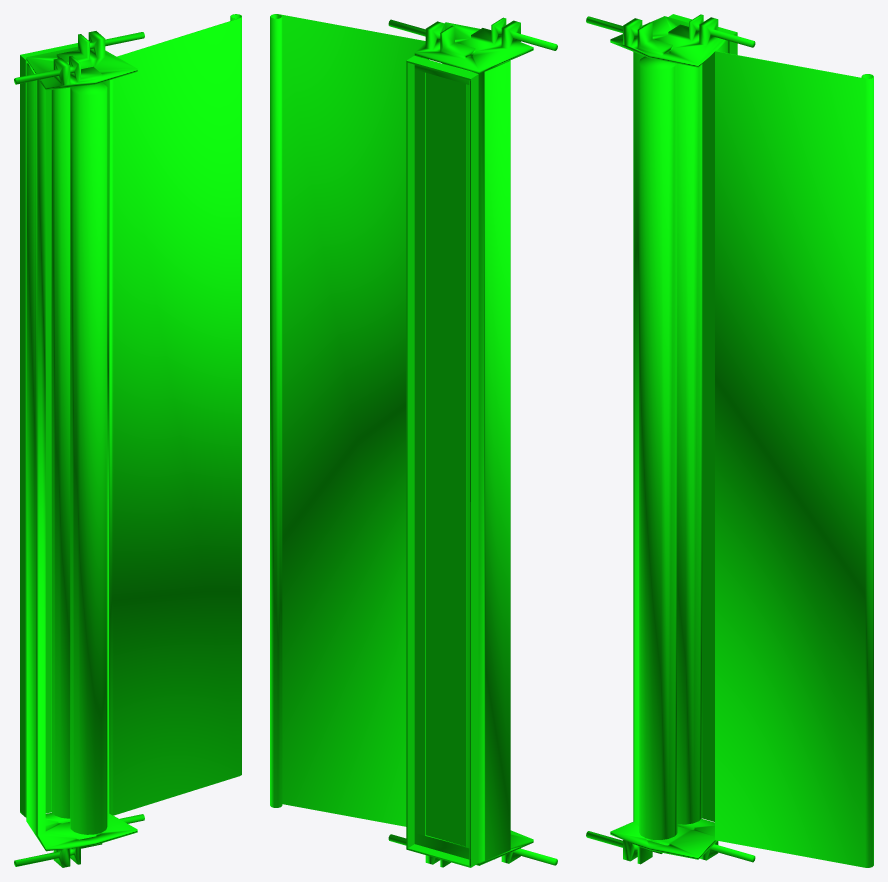
The model's file is NOS-01-60.fbx.
3 renders of one model, left to right at view 1: azimuth 30°, elevation 25°; view 2: azimuth 150°, elevation 25°; view 3: azimuth 330°, elevation 25°, orthographic. The views are drawn at different scales.
Visible parts, largest first — view 1: polySurface12; view 2: polySurface12; view 3: polySurface12.
Boxes of the visible parts, x1,y1,x2,y2 form: polySurface12: (14,14,241,867); polySurface12: (270,14,557,867); polySurface12: (586,14,873,867).
Bounding box in the file's own units: 21.24 × 65 × 7.47.
